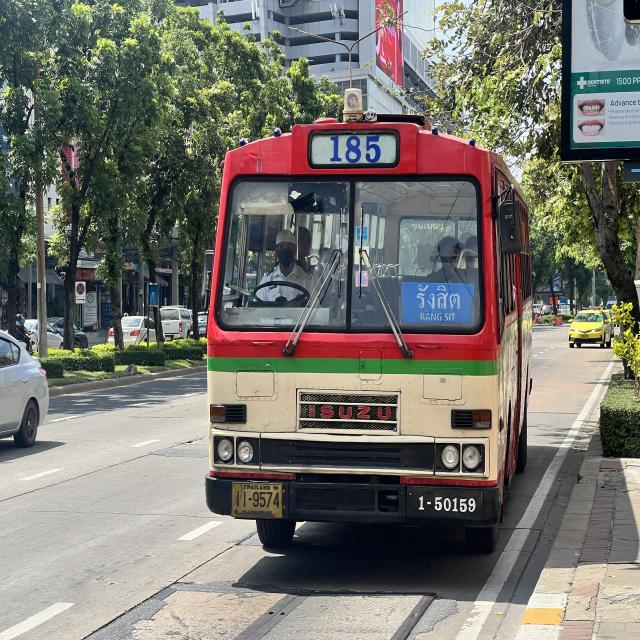BMTA-bus: (204, 117, 530, 554)
Bus-Line-Number: (308, 123, 402, 172)
Destination-Sign-Normal: (400, 277, 476, 329)
